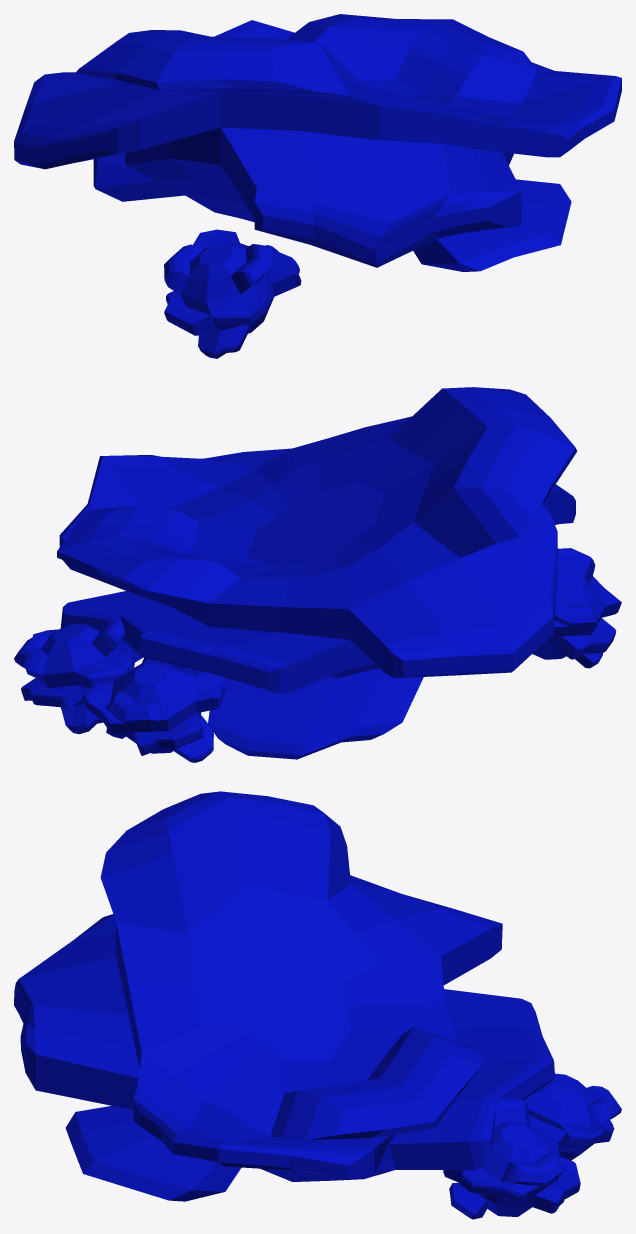
The model's file is propCoral2B.fbx.
The picture shows the model from 3 angles, top to bottom: view 1: azimuth 30°, elevation 25°; view 2: azimuth 150°, elevation 25°; view 3: azimuth 270°, elevation 25°; orthographic projection. The views are drawn at different scales.
Visible parts, largest first — view 1: Coral2B; view 2: Coral2B; view 3: Coral2B.
Boxes of the visible parts, x1,y1,x2,y2 form: Coral2B: (14,14,621,358); Coral2B: (14,387,621,762); Coral2B: (14,791,621,1219).
Size of the model in its own units: 342 by 170 by 337.
